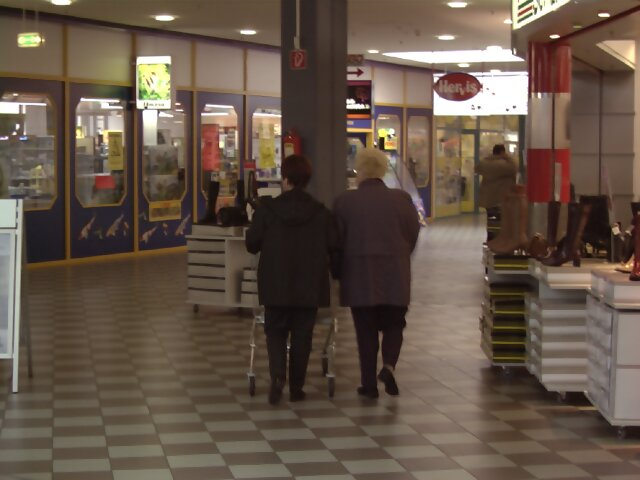person: (332, 146, 434, 405), (241, 146, 337, 406)
